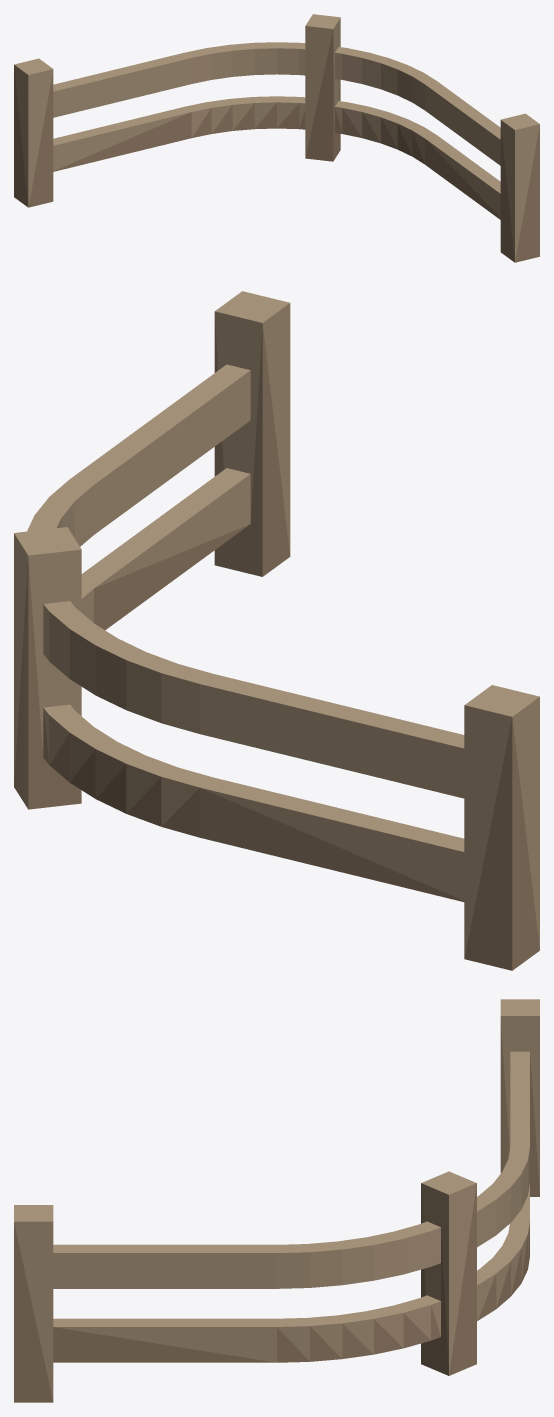
3 renders of one model, top to bottom at view 1: azimuth 30°, elevation 25°; view 2: azimuth 150°, elevation 25°; view 3: azimuth 270°, elevation 25°, orthographic. The views are drawn at different scales.
Parts seen in each view (by area): view 1: model; view 2: model; view 3: model.
Boxes of the visible parts, bbox=[...] form: model: bbox=[14, 14, 539, 262]; model: bbox=[14, 291, 539, 970]; model: bbox=[14, 999, 539, 1402].
Size of the model in its own units: 2 by 0.76 by 2.
